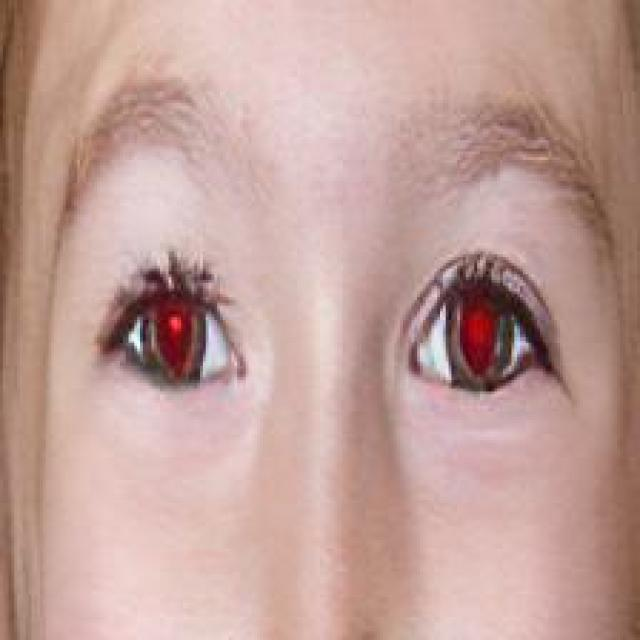reflexo-normal: (403, 256, 549, 405), (98, 252, 244, 394)
